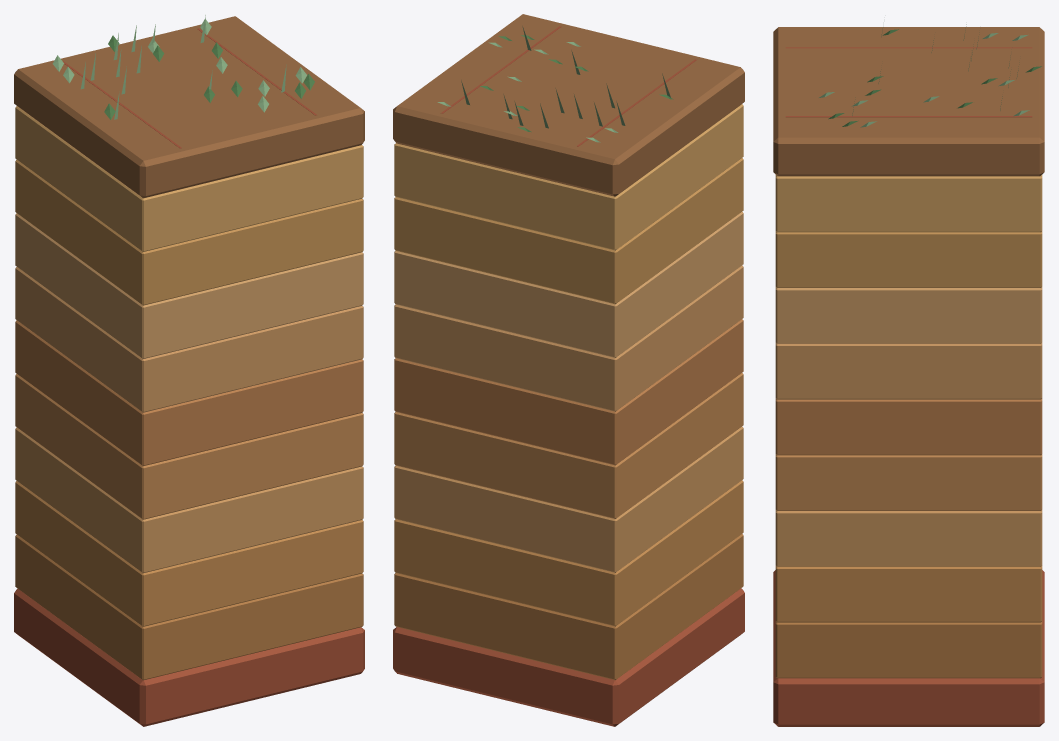
File: kit_wall_commons_moss.glb
3 views of the same model, side by side, from view 1: azimuth 30°, elevation 25°; view 2: azimuth 150°, elevation 25°; view 3: azimuth 270°, elevation 25° (orthographic). The views are drawn at different scales.
Visible parts, largest first — view 1: kit_wall_commons_moss_mesh; view 2: kit_wall_commons_moss_mesh; view 3: kit_wall_commons_moss_mesh.
Part boxes in pixels (x1=…): kit_wall_commons_moss_mesh: x1=14, y1=15, x2=364, y2=726; kit_wall_commons_moss_mesh: x1=393, y1=14, x2=744, y2=726; kit_wall_commons_moss_mesh: x1=773, y1=24, x2=1044, y2=726.
Size of the model in its own units: 1 by 2.51 by 1.
